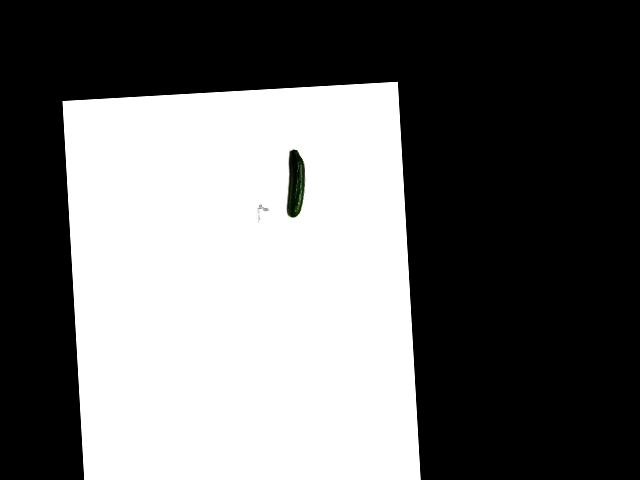cucumber: (284, 149, 306, 218)
